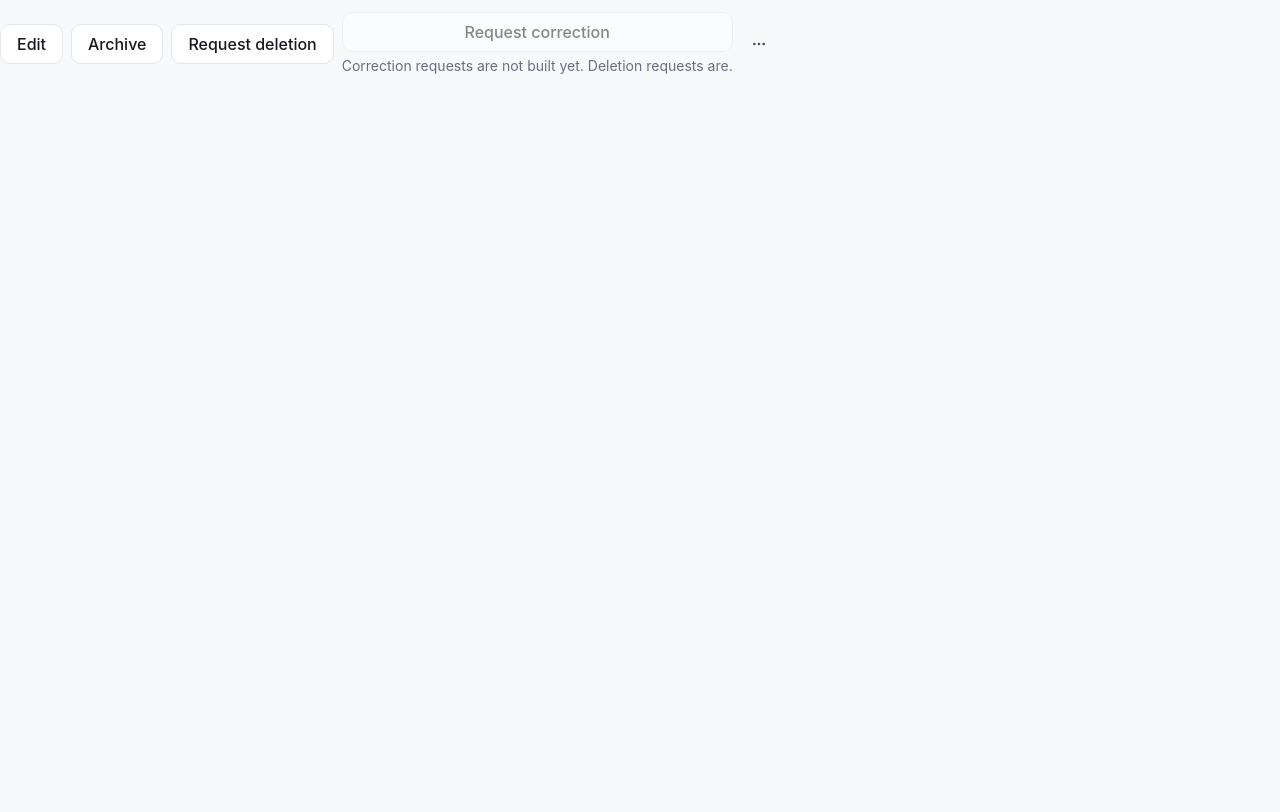
Test: archive and restore › shows the undo toast once the archive succeeds
This screenshot has width=1280, height=812.
Click the button "Archive". click: (117, 44)
box: x1=71 y1=24 x2=163 y2=64
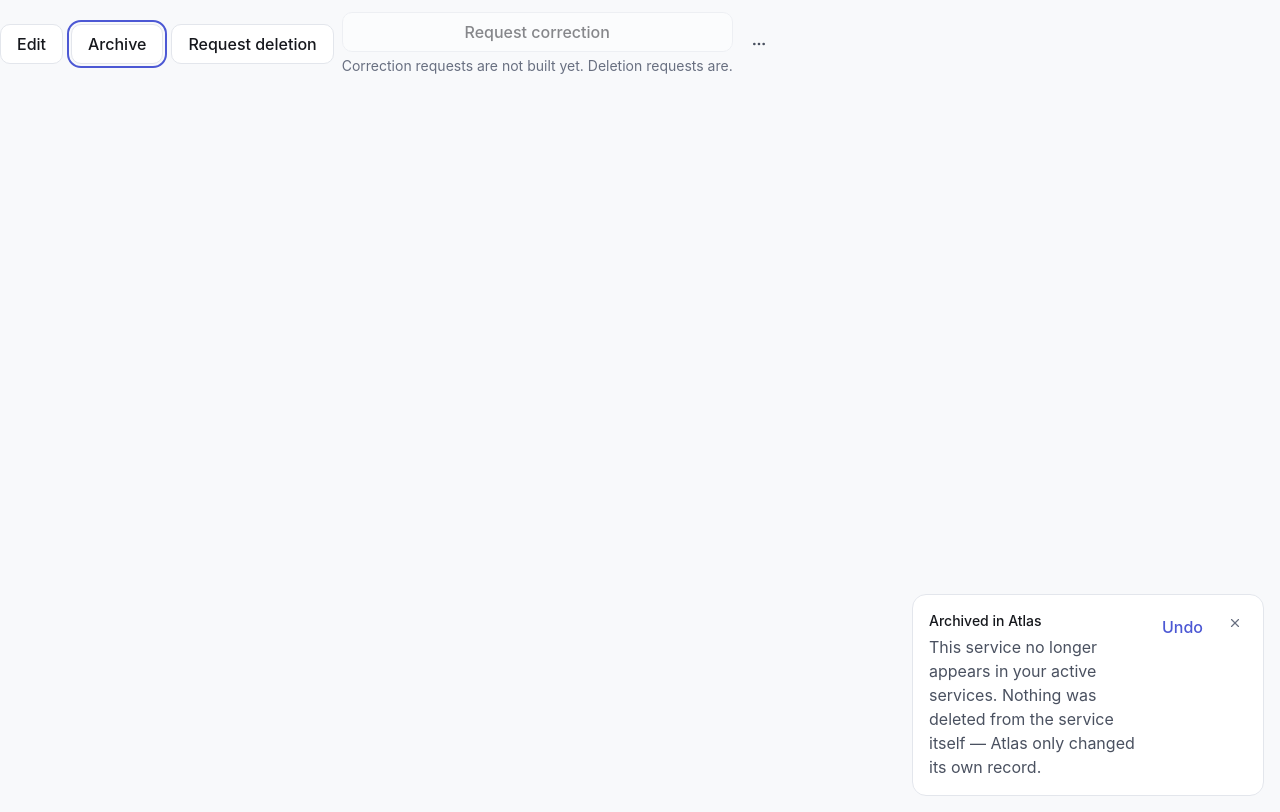
Result: the text "Archived in Atlas" is shown at x1=929 y1=612 x2=1042 y2=629
Result: the button "Undo" is shown at x1=1154 y1=611 x2=1211 y2=643
